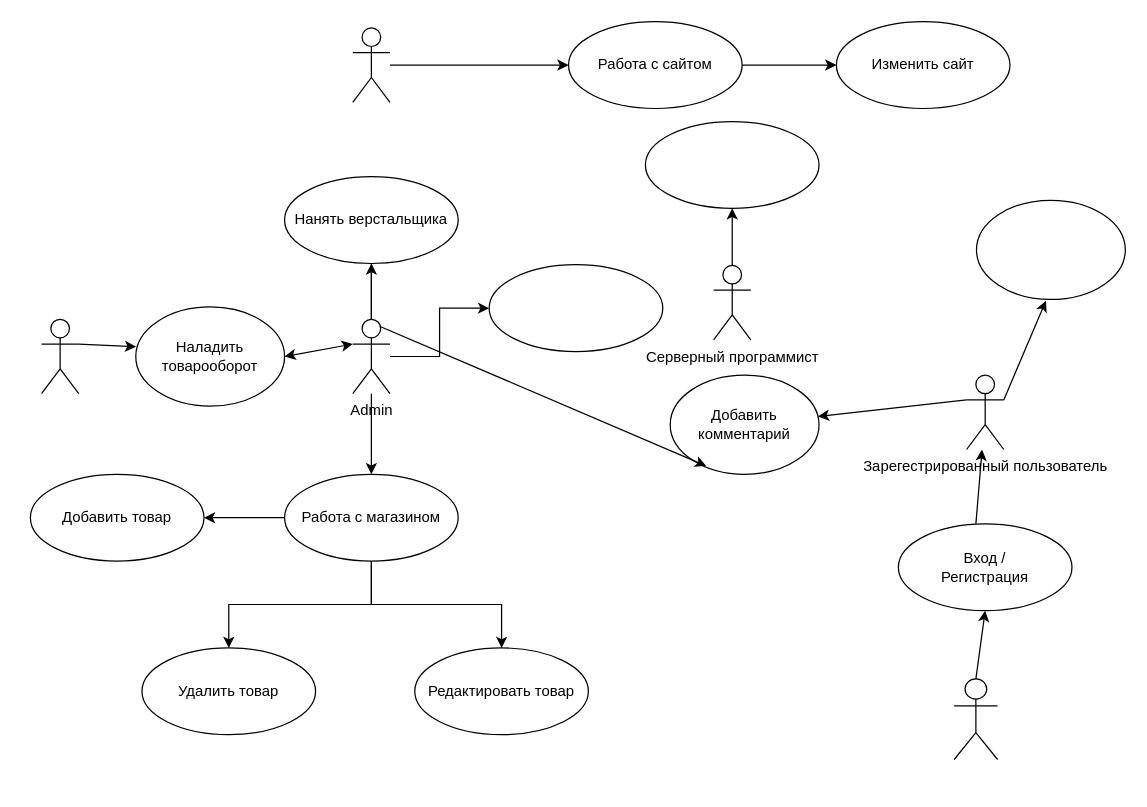
Image size: 1147x807. Some labels were removed from this diagram. The shapes that lost their labels are listed below. From the top down, each one's centre as x and y in pixels, then its label:
At pixel 371 64: "Верстальщик".
At pixel 731 164: "Изменить что-то на сервере (back-end)".
At pixel 1050 249: "Редактирование профиля".
At pixel 575 308: "Нанять серверного программиста".
At pixel 59 356: "Поставщик".
At pixel 975 719: "Пользователь".
